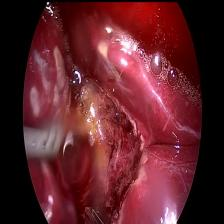Grasper: (84, 206, 110, 224)
Irrigator: (23, 122, 61, 160)
